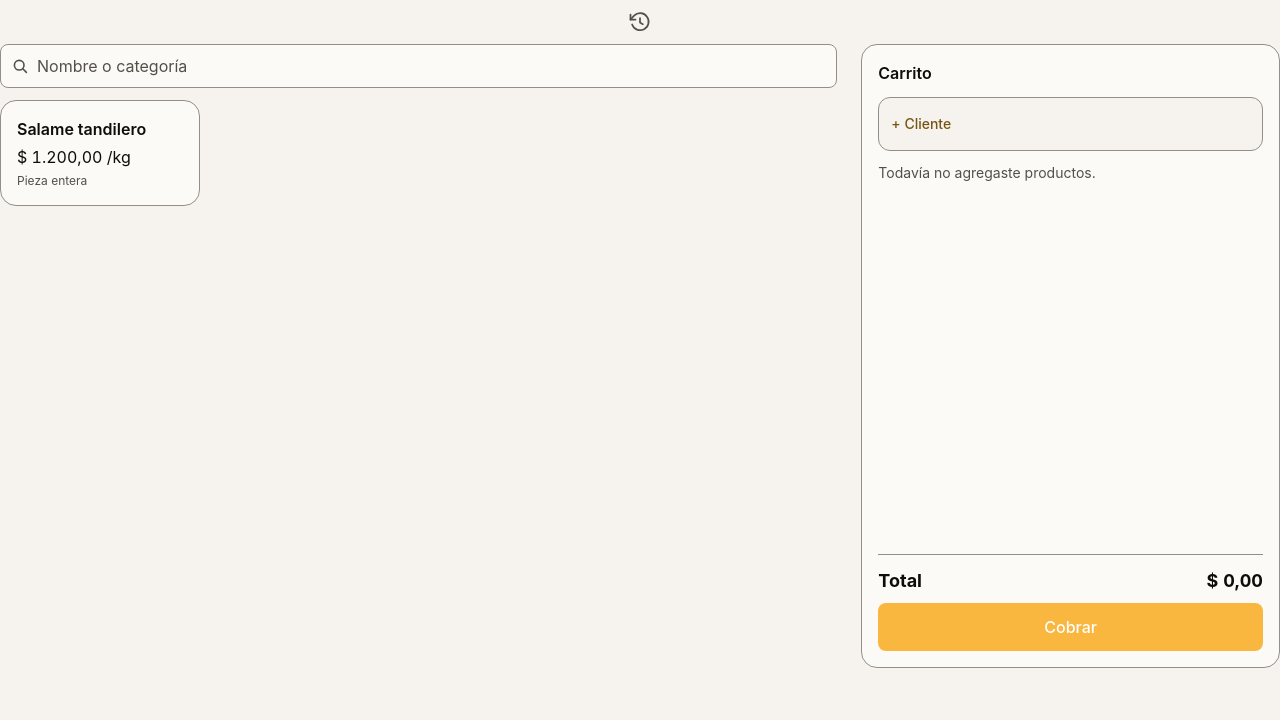
Venta - editar carrito en el lugar (docs/06-ui-ux.md §6, POS-3) › pieza_entera: "+" del carrito abre el selector excluyendo la pieza ya carriteada
What coordinates should you click on to do the following:
click the text "Salame tandilero"
I would click on:
 (82, 129)
Its box is [17,117,146,141].
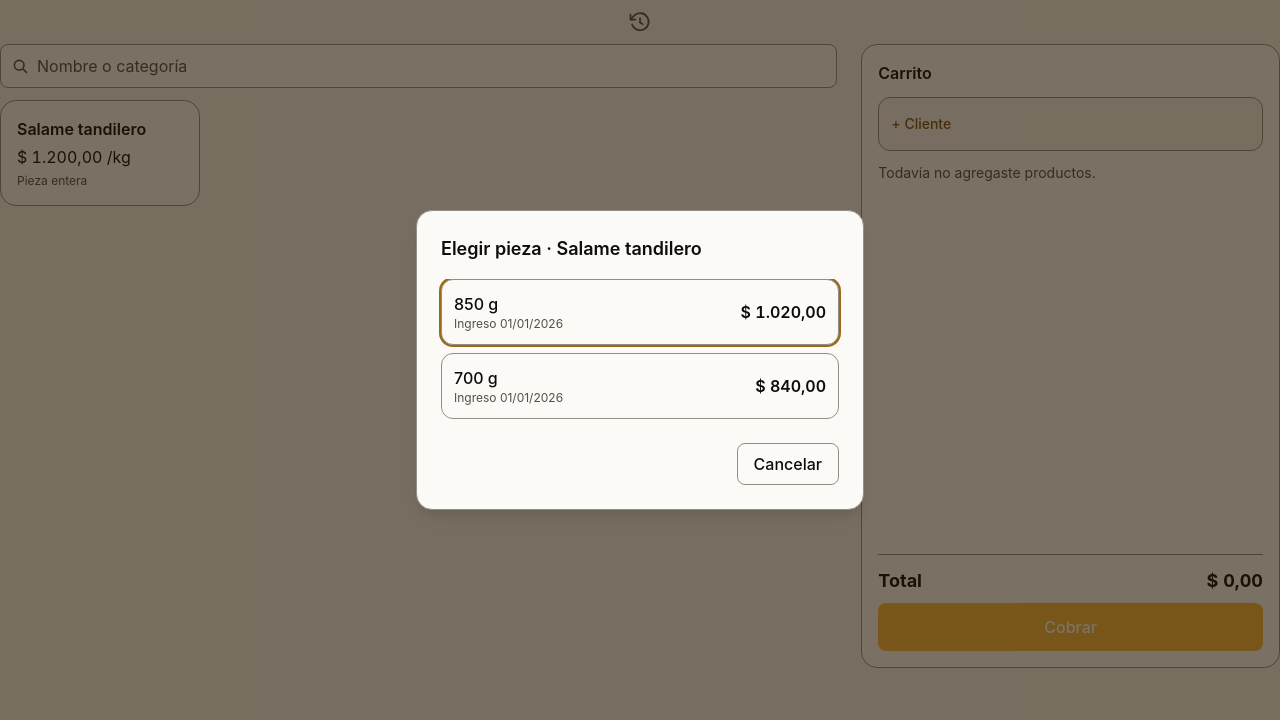
What coordinates should you click on to do the following:
click the text "850 g"
I would click on:
 (476, 304)
Its box is [454,294,498,314].
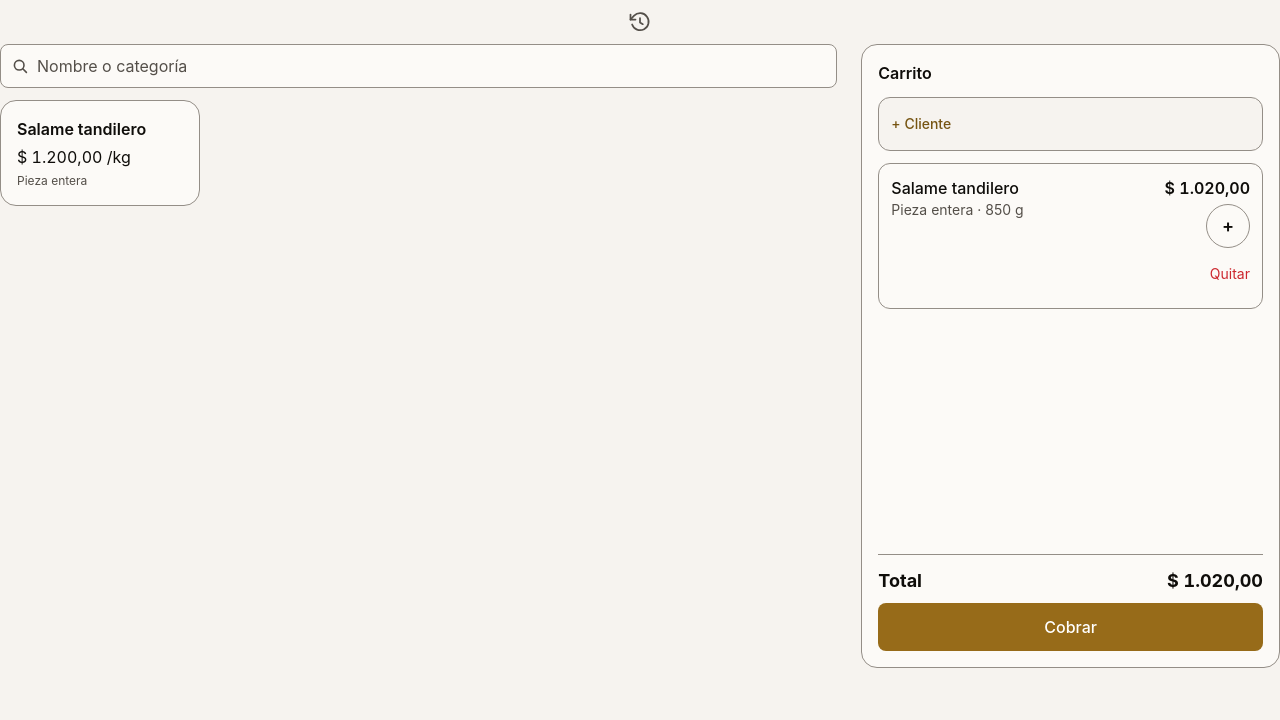
Result: the text "Pieza entera · 850 g" is shown at [891,200,1024,220]
What coordinates should you click on to do the following:
click the button named "Agregar otra pieza de Salame tandilero"
I would click on:
 (1228, 226)
Its box is [1206,204,1250,248].
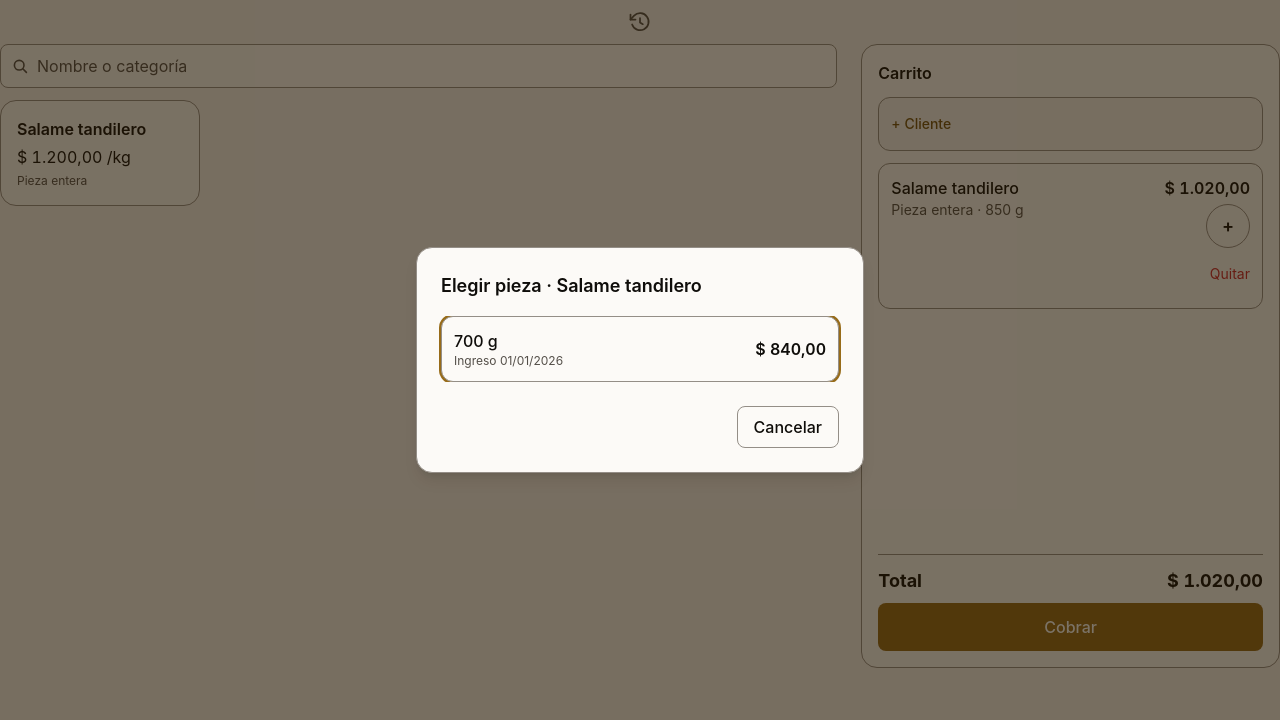
What coordinates should you click on to do the following:
click the text "700 g"
I would click on:
 (476, 341)
Its box is [454,331,498,351].
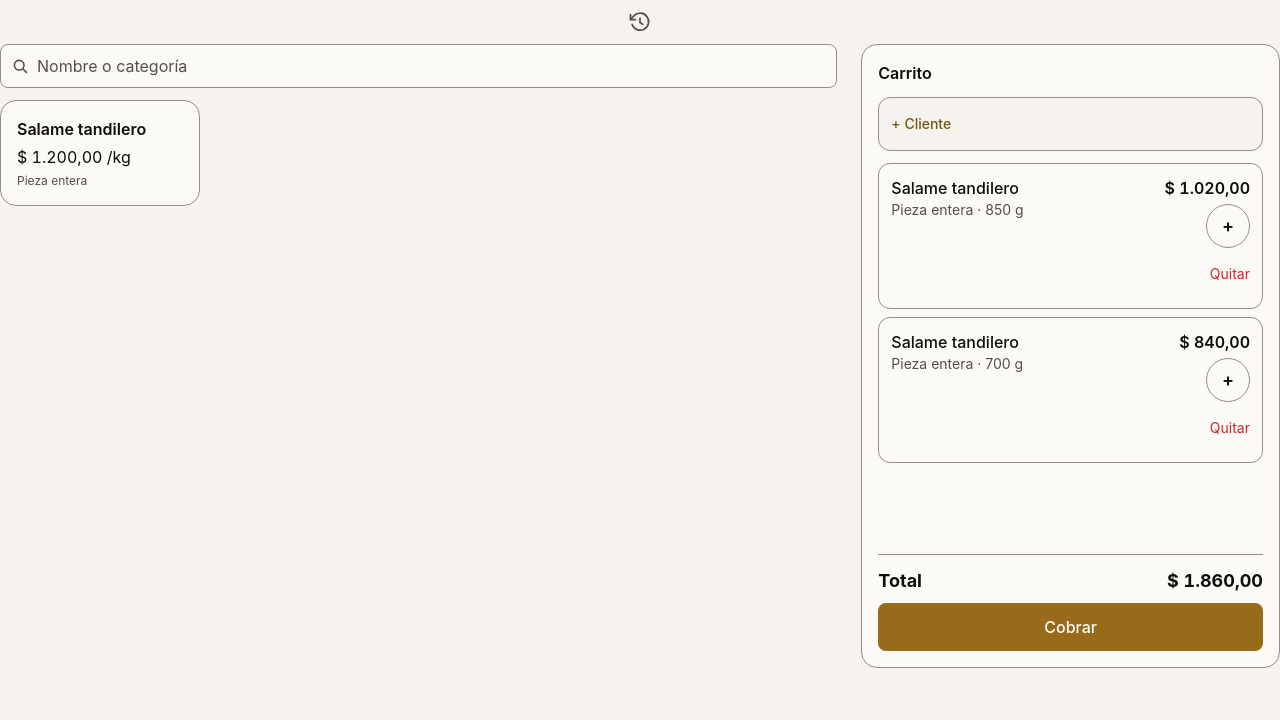
Result: the text "Pieza entera · 850 g" is shown at [891,200,1024,220]
Result: the text "Pieza entera · 700 g" is shown at [891,354,1023,374]
